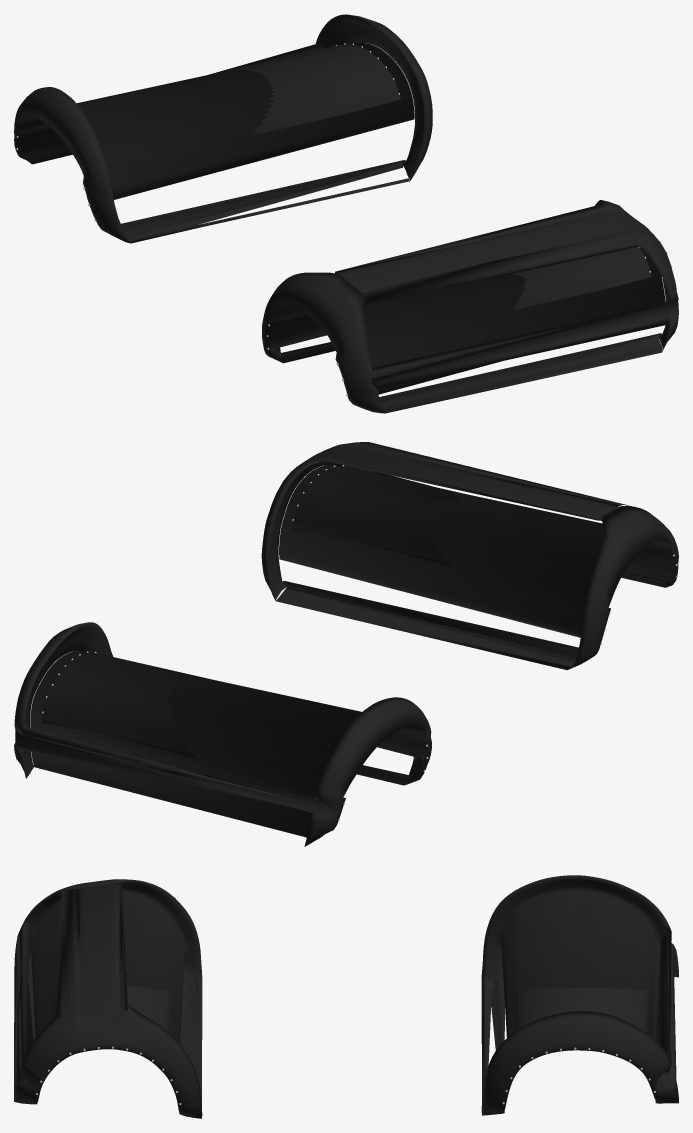
Rendered from WB02_widebody_fenders_carbon.glb.
3 renders of one model, top to bottom at view 1: azimuth 30°, elevation 25°; view 2: azimuth 150°, elevation 25°; view 3: azimuth 270°, elevation 25°, orthographic. The views are drawn at different scales.
Visible parts, largest first — view 1: MOD_NA_WB02_rear_R, MOD_NA_WB02_front_R, MOD_NA_WB02_front_L, MOD_NA_WB02_rear_L; view 2: MOD_NA_WB02_front_R, MOD_NA_WB02_rear_R, MOD_NA_WB02_front_L, MOD_NA_WB02_rear_L; view 3: MOD_NA_WB02_rear_R, MOD_NA_WB02_front_L, MOD_NA_WB02_front_R, MOD_NA_WB02_rear_L.
Part boxes in pixels (x1,y1,x2,y2): MOD_NA_WB02_rear_R: (14, 43, 414, 243); MOD_NA_WB02_front_R: (262, 247, 665, 413); MOD_NA_WB02_front_L: (335, 200, 678, 388); MOD_NA_WB02_rear_L: (209, 14, 432, 180); MOD_NA_WB02_front_R: (276, 465, 678, 670); MOD_NA_WB02_rear_R: (27, 651, 431, 846); MOD_NA_WB02_front_L: (261, 442, 631, 600); MOD_NA_WB02_rear_L: (14, 622, 315, 812); MOD_NA_WB02_rear_R: (481, 875, 678, 1102); MOD_NA_WB02_front_L: (14, 884, 202, 1118); MOD_NA_WB02_front_R: (14, 879, 202, 1107); MOD_NA_WB02_rear_L: (481, 939, 678, 1115).
Size of the model in its own units: 1.81 by 0.591 by 3.25.
Materials: 2 (1 with a texture image).
